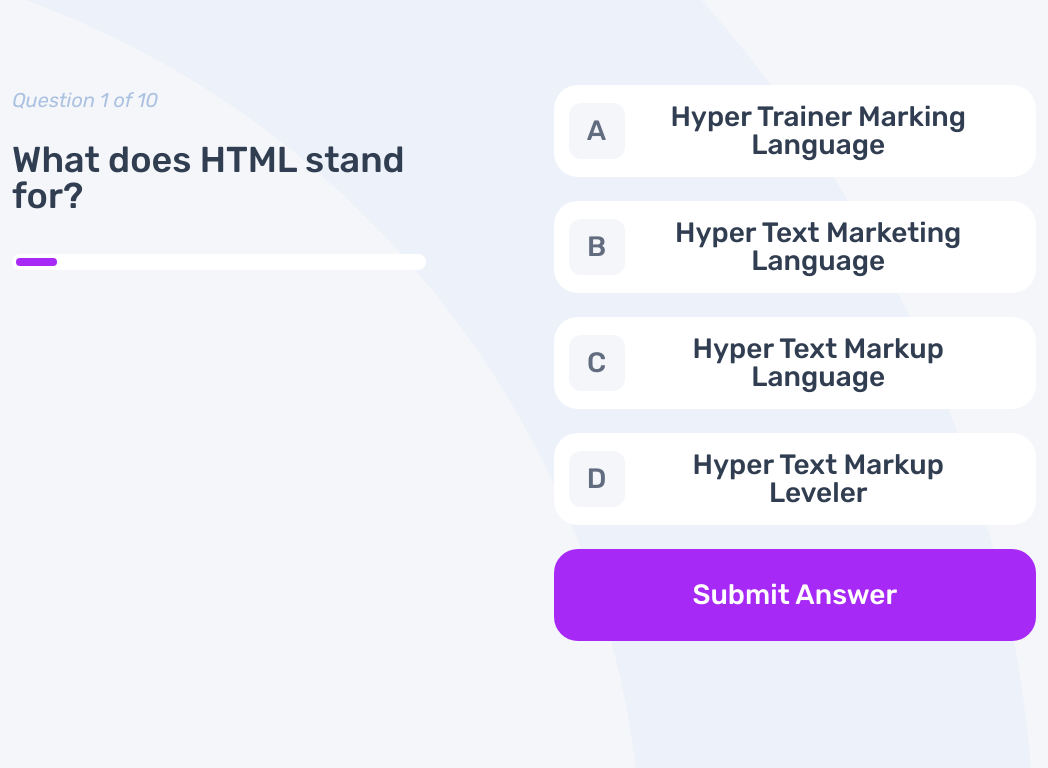
Test case: Quiz › allows user to go to next question
What coordinates should you click on to do the following:
click the text "Hyper Trainer Marking Language"
I would click on:
 (818, 131)
Its box is [648, 103, 988, 159].
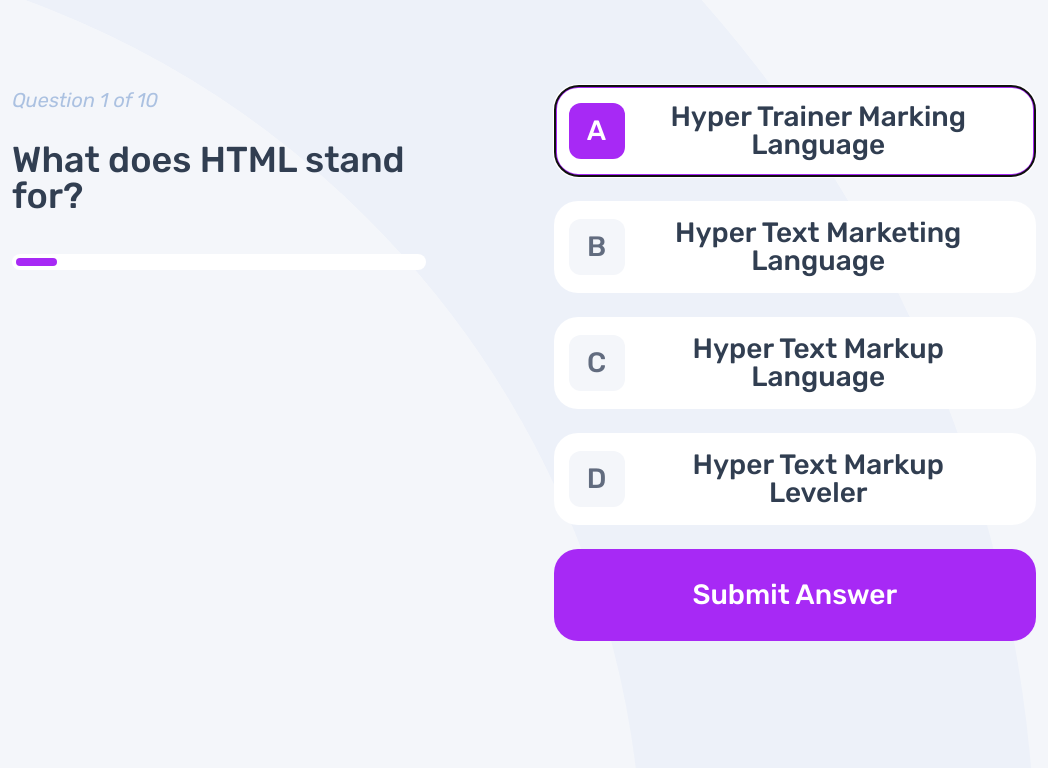
What coordinates should you click on to do the following:
click the button "Submit Answer"
I would click on:
 (795, 595)
Its box is [554, 549, 1036, 641].
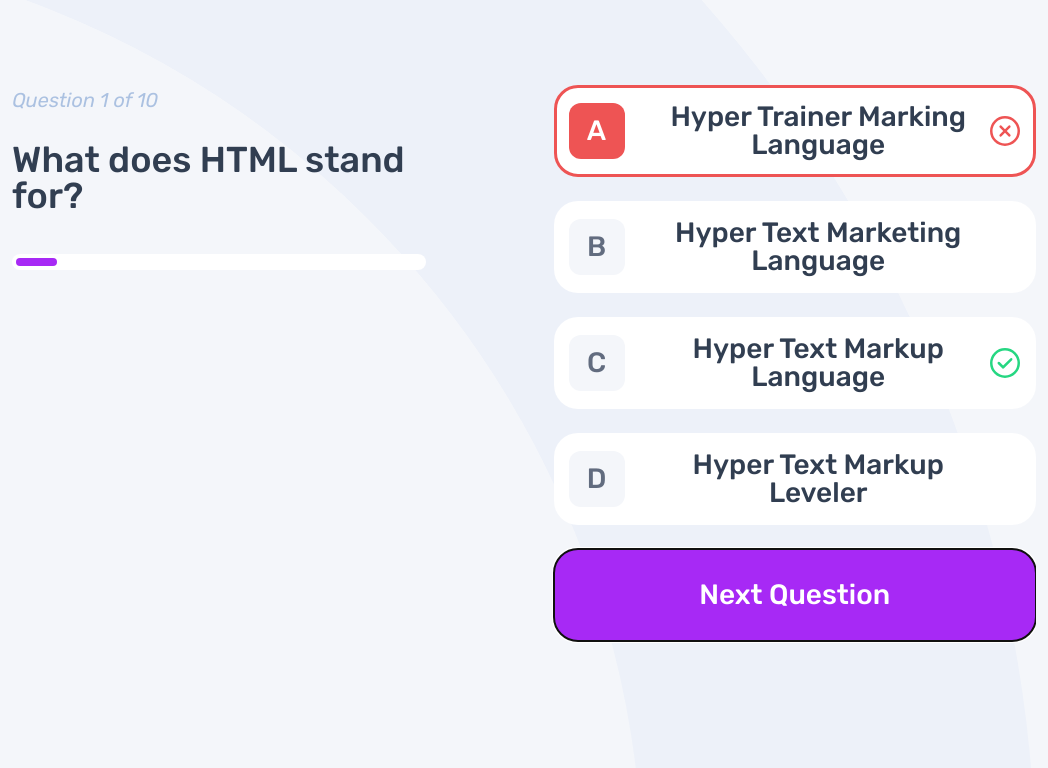
Check: the button "Next Question" is shown
What coordinates should you click on to do the following:
click the button "Next Question"
I would click on:
 (795, 595)
Its box is [554, 549, 1036, 641].
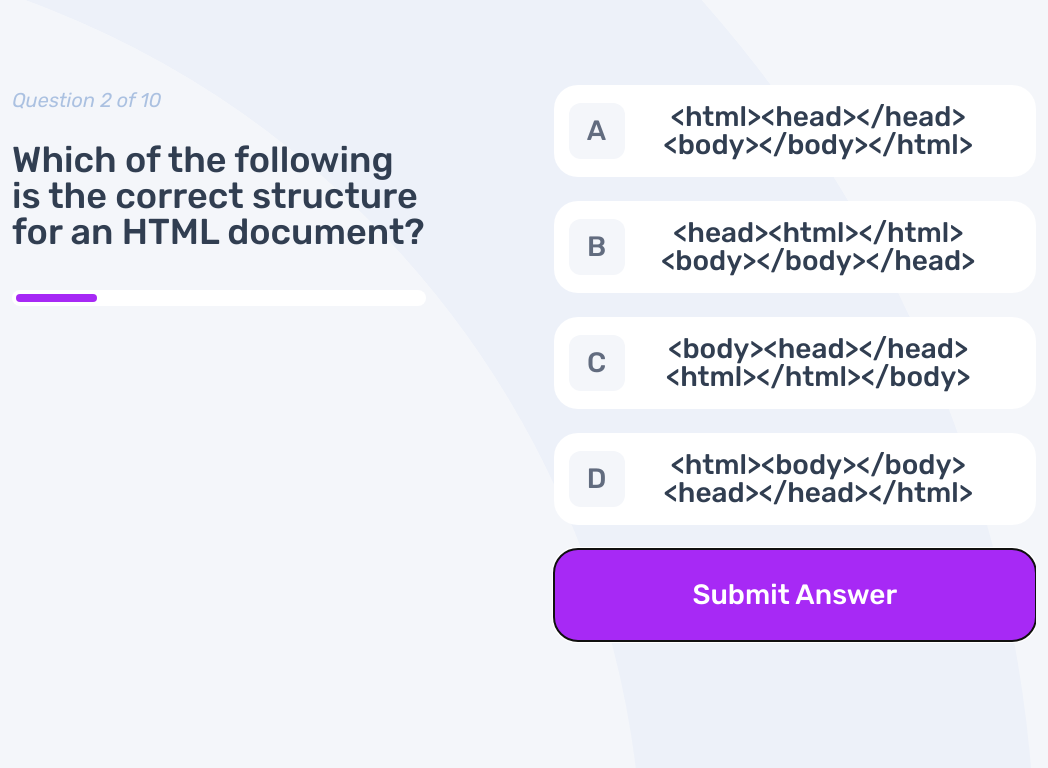
Check: the text "Which of the following is the correct structure for an HTML document?" is shown, box [12, 142, 426, 250]
